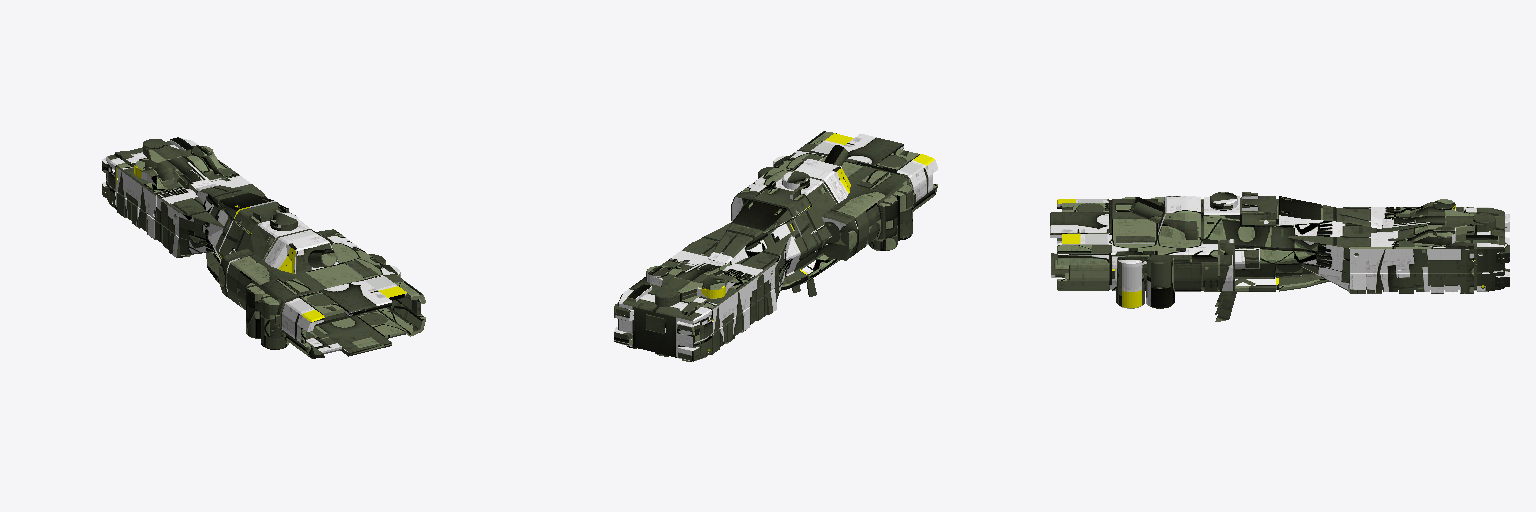
3 renders of one model, left to right at view 1: azimuth 30°, elevation 25°; view 2: azimuth 150°, elevation 25°; view 3: azimuth 270°, elevation 25°, orthographic.
Visible parts, largest first — view 1: jorodoxShape.002; view 2: jorodoxShape.002; view 3: jorodoxShape.002.
Boxes of the visible parts, x1=… form: jorodoxShape.002: x1=102, y1=137, x2=425, y2=358; jorodoxShape.002: x1=614, y1=131, x2=937, y2=361; jorodoxShape.002: x1=1050, y1=192, x2=1509, y2=321.
Bounding box in the file's own units: 75.81 × 62.66 × 222.
Materials: 1 (1 with a texture image).